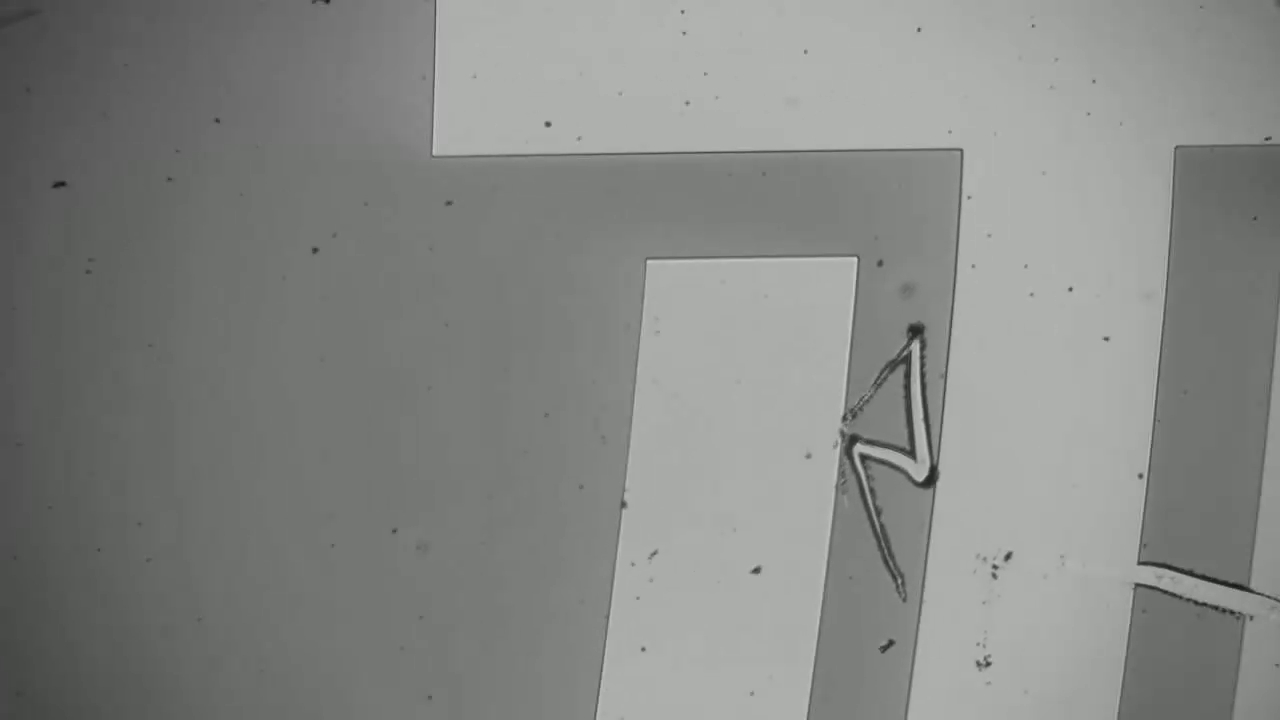Short_circuit: (1098, 509, 1280, 640), (819, 425, 968, 506)
